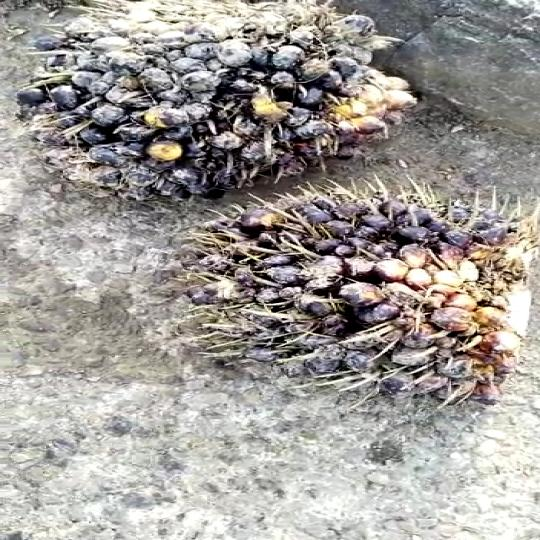mentah: (13, 0, 421, 195)
